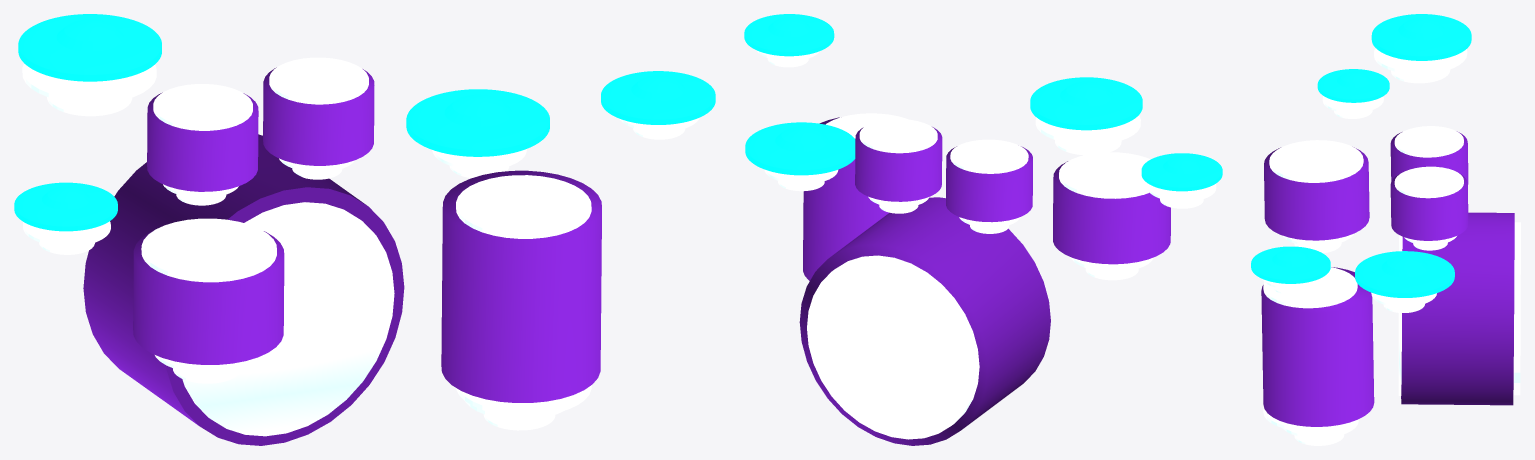
File: drumssss.glb
3 renders of one model, left to right at view 1: azimuth 30°, elevation 25°; view 2: azimuth 150°, elevation 25°; view 3: azimuth 270°, elevation 25°, orthographic. The views are drawn at different scales.
Visible parts, largest first — view 1: KickDrum, floortom.001, Snare, Tomtom2, Tomtom1, Hat.002, Hat, Hat.003, Hat.001, hatGF, hatFD, hatFD.004 (+5 smaller); view 2: KickDrum, Snare, Tomtom2, Tomtom1, floortom.001, Hat, Hat.002, Hat.003, Hat.001, hatGF, hatFD, SnareFD.001 (+4 smaller); view 3: KickDrum, floortom.001, Snare, Tomtom2, Hat, Hat.002, Tomtom1, Hat.003, Hat.001, hatGF, floortomFD, hatFD (+4 smaller).
Boxes of the visible parts, x1,y1,x2,y2 form: KickDrum: (83,134,404,445); floortom.001: (441,170,601,416); Snare: (133,218,284,364); Tomtom2: (263,57,374,165); Tomtom1: (147,84,258,191); Hat.002: (406,89,549,156); Hat: (18,14,161,81); Hat.003: (601,71,715,124); Hat.001: (14,182,117,231); hatGF: (22,63,156,116); hatFD: (23,221,110,254); hatFD.004: (432,149,526,178); KickDrum: (799,197,1050,445); Snare: (1053,152,1170,264); Tomtom2: (855,119,942,201); Tomtom1: (946,139,1032,222); floortom.001: (803,113,908,280); Hat: (1030,77,1142,130); Hat.002: (745,122,855,175); Hat.003: (744,14,834,56); Hat.001: (1141,153,1222,191); hatGF: (1035,115,1140,155); hatFD: (1147,183,1216,208); SnareFD.001: (1071,257,1153,280); KickDrum: (1398,212,1520,405); floortom.001: (1261,267,1374,431); Snare: (1264,140,1369,240); Tomtom2: (1390,166,1468,240); Hat: (1371,14,1471,60); Hat.002: (1355,251,1454,297); Tomtom1: (1390,126,1468,184); Hat.003: (1251,246,1330,283); Hat.001: (1317,69,1389,102); hatGF: (1374,48,1467,83); floortomFD: (1282,419,1358,445); hatFD: (1322,96,1383,118).
Bounding box in the file's own units: 2.69 × 1.81 × 1.41.
